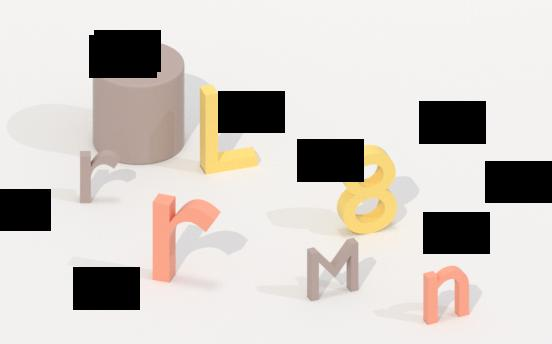8: (328, 147, 406, 237)
M-hoa: (298, 233, 370, 303)
R: (148, 191, 224, 289), (78, 146, 124, 206)
l: (195, 81, 261, 180)
n: (420, 263, 475, 330)
tru: (90, 36, 188, 165)
